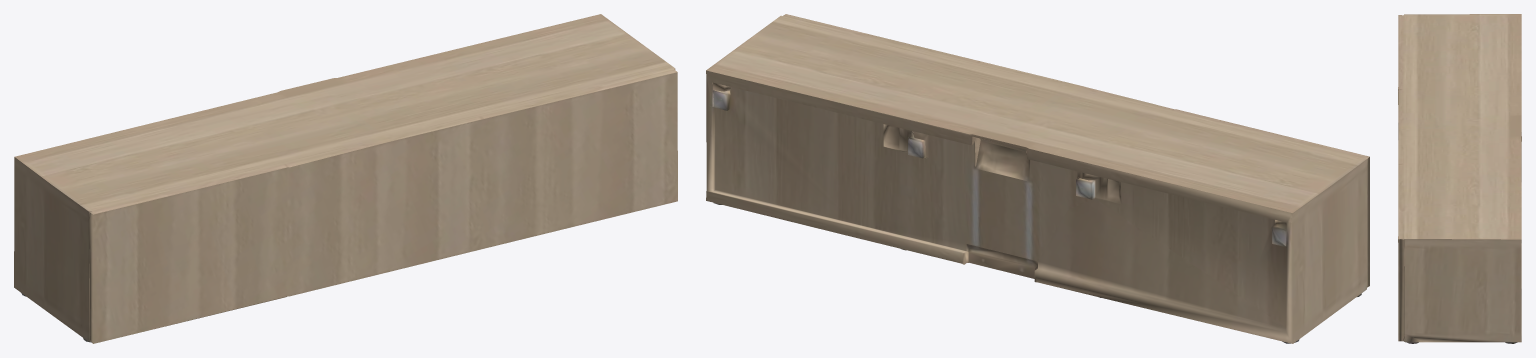
The picture shows the model from 3 angles, left to right: view 1: azimuth 30°, elevation 25°; view 2: azimuth 150°, elevation 25°; view 3: azimuth 270°, elevation 25°; orthographic projection. The views are drawn at different scales.
Visible parts, largest first — view 1: ProcessedMeshNode; view 2: ProcessedMeshNode; view 3: ProcessedMeshNode.
Part boxes in pixels (bbox=[...]): ProcessedMeshNode: bbox=[14, 14, 677, 343]; ProcessedMeshNode: bbox=[706, 14, 1369, 343]; ProcessedMeshNode: bbox=[1398, 14, 1521, 343].
Size of the model in its own units: 1.8 by 0.3956 by 0.4175.
Materials: 1 (1 with a texture image).
